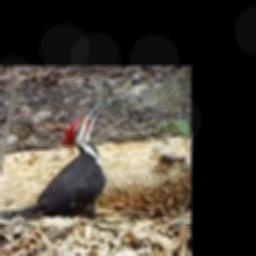Woodpecker: (3, 105, 107, 221)
